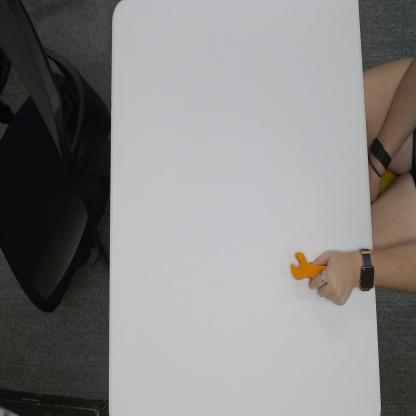Hand: (312, 242, 360, 308)
Screwdriver: (290, 248, 334, 284)
